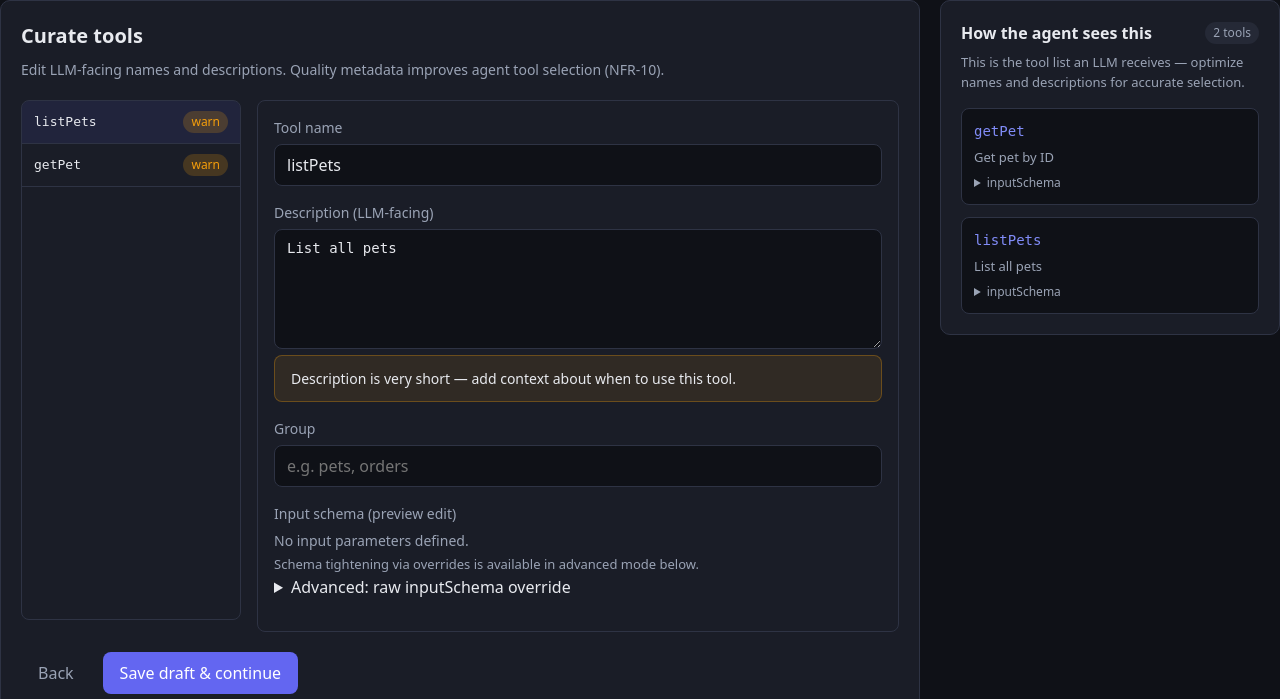
Scenario: CurateStep › shows error when save draft fails
Expected: the heading "Curate tools" is shown, left=21, top=22, right=143, bottom=49
Step 1. Click the button "Save draft & continue" → {"x": 200, "y": 672}, box left=103, top=652, right=298, bottom=694
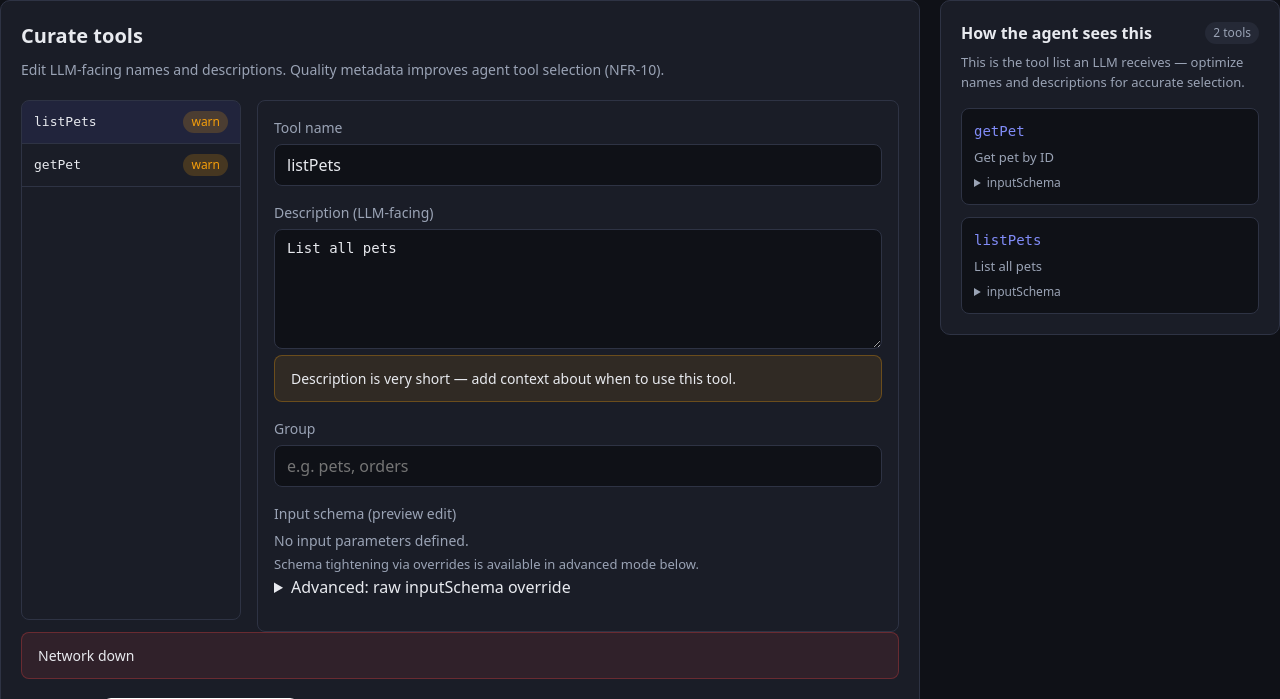
Expected: the text "Network down" is shown, left=21, top=632, right=899, bottom=678
